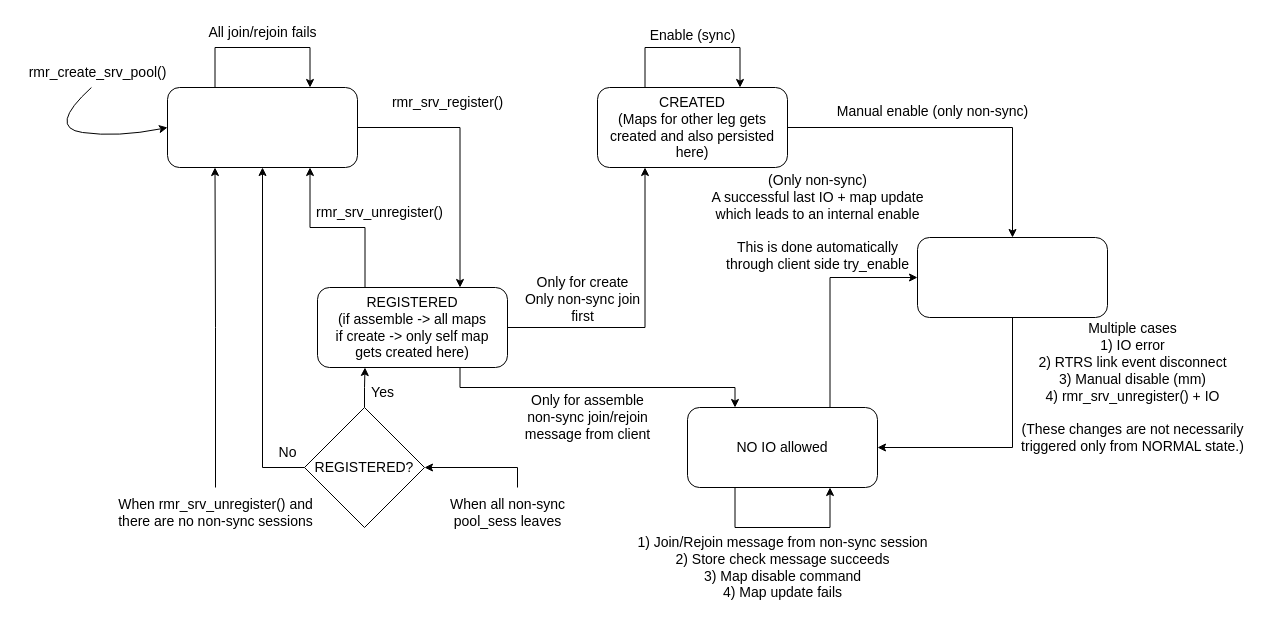
The diagram is 1274 pixels wide and 624 high, and some of its shapes have lost their labels. Each missing label, with the box of its shape:
EMPTY: (166, 86, 358, 168)
NORMAL (IO Allowed, provided store is still registered): (916, 236, 1108, 318)
